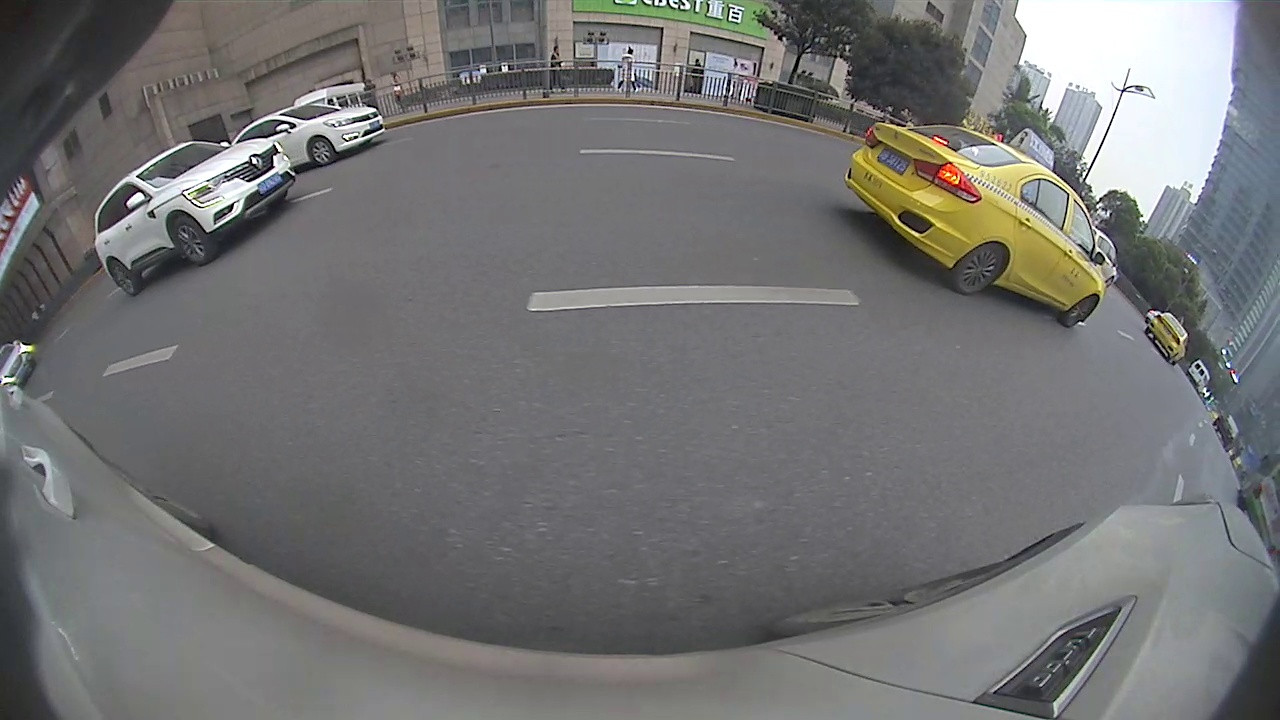car: (843, 120, 1109, 328), (92, 135, 299, 298), (227, 102, 388, 168), (1144, 308, 1191, 366)
front: (166, 210, 211, 266), (1059, 295, 1097, 329), (305, 136, 335, 167)
rear: (952, 244, 1016, 296), (105, 259, 137, 296)
